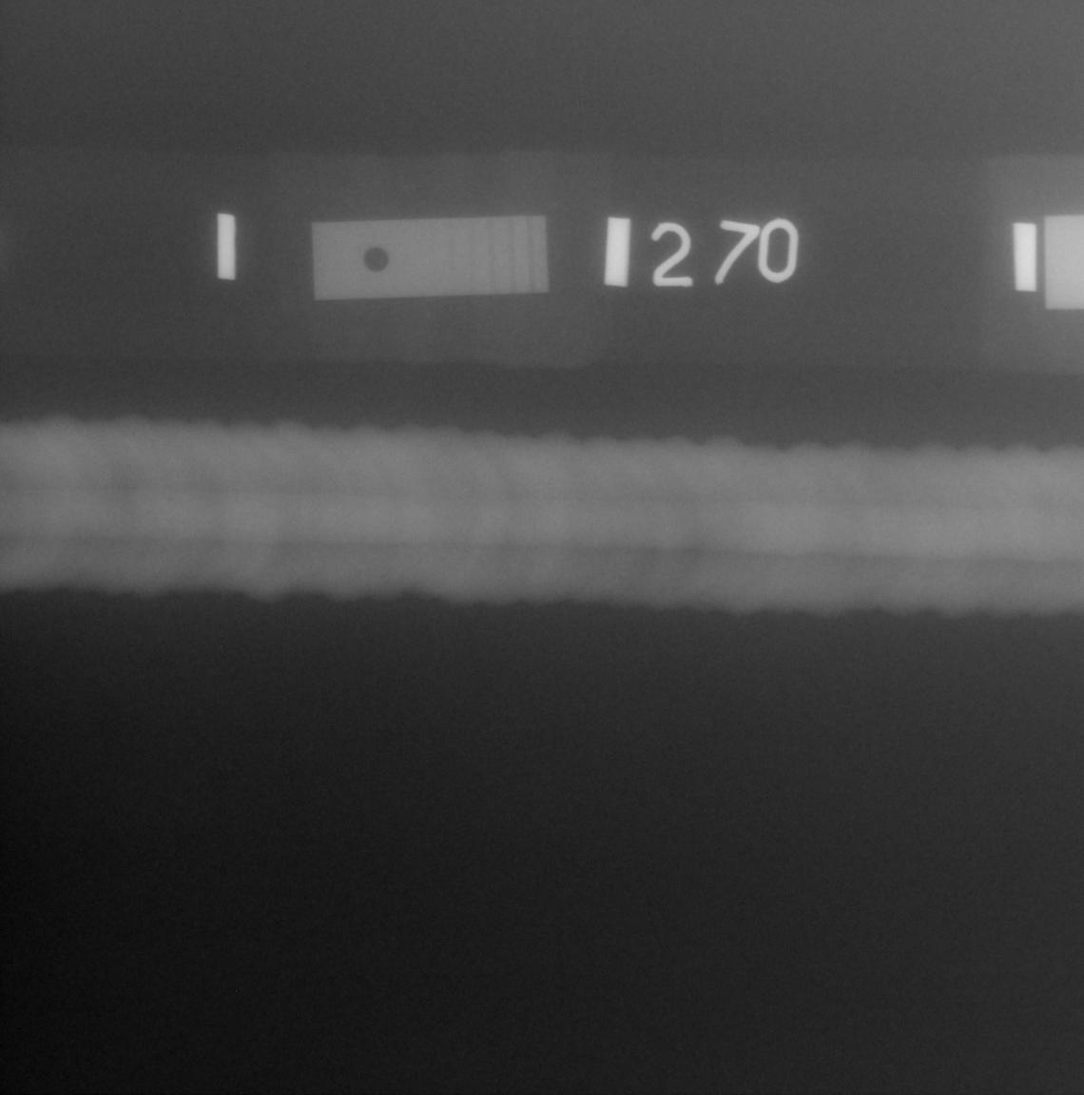Pore/Porosity: (167, 497, 172, 502)
Reference Standard 1: (311, 215, 548, 300)
